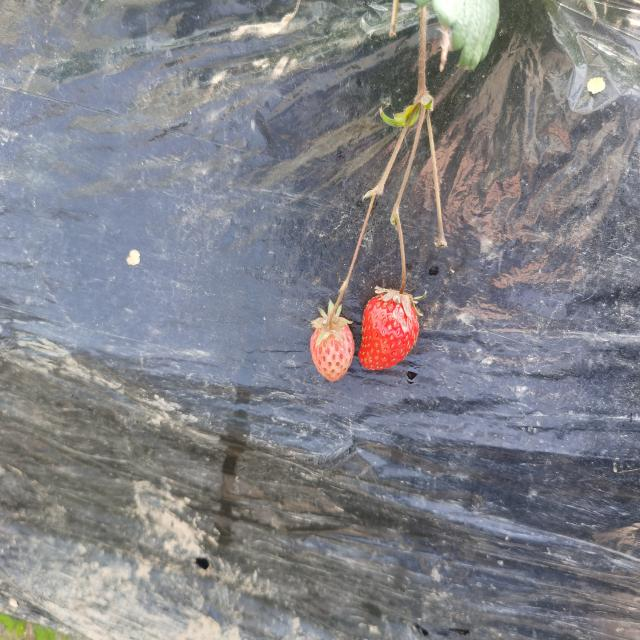stem: (329, 294, 342, 332), (399, 259, 406, 296)
strawberry: (358, 292, 419, 370), (310, 317, 355, 381)
